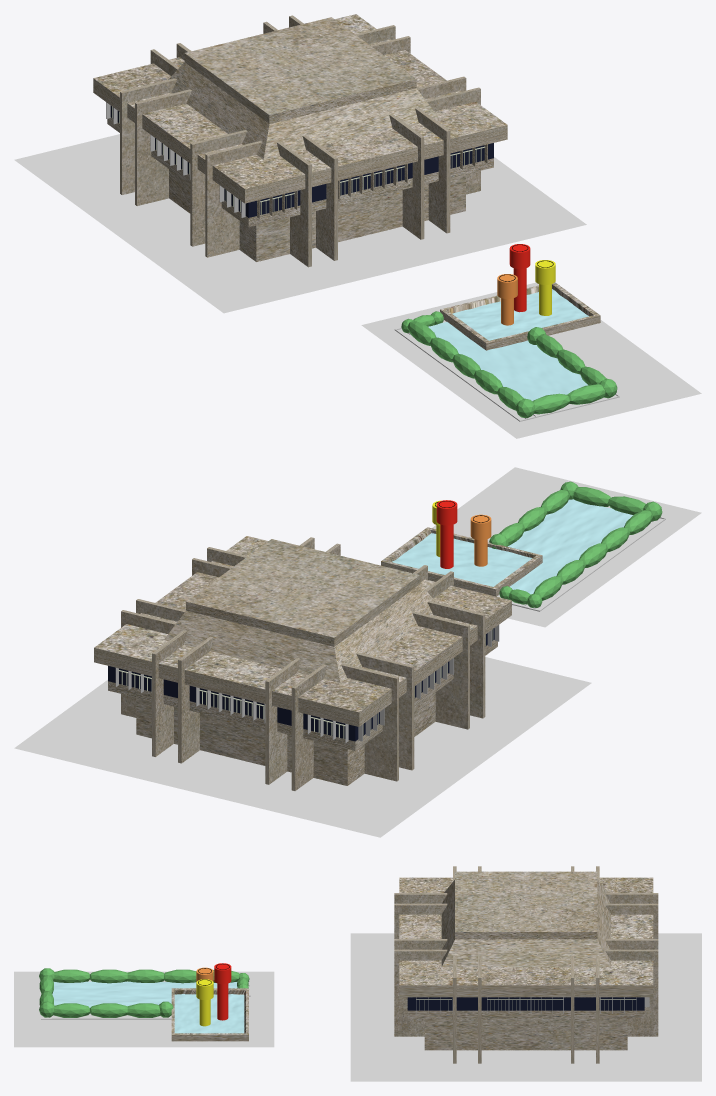
The model's file is auditorio prueba1.fbx.
3 views of the same model, one above another, from view 1: azimuth 30°, elevation 25°; view 2: azimuth 150°, elevation 25°; view 3: azimuth 270°, elevation 25° (orthographic). The views are drawn at different scales.
Visible parts, largest first — view 1: Plane, Cube.002, Cube.006, Cube.004, Piso (Plataforma), Cube.003, Cube.005, Cube, Cube.001, Plane.003, Plane.002, Piscina (+4 smaller); view 2: Plane, Cube.002, Cube.006, Cube.004, Cube.003, Cube.005, Piso (Plataforma), Cube, Cube.001, Plane.003, Plane.002, Piscina (+3 smaller); view 3: Plane, Cube.002, Cube.006, Piso (Plataforma), Cube.003, Cube, Cube.005, Cube.001, Plane.003, Plane.002, Cube.004, Piscina (+10 smaller).
Boxes of the visible parts, <box> form: Plane: <box>14,134,586,313</box>; Cube.002: <box>93,14,507,203</box>; Cube.006: <box>184,17,416,123</box>; Cube.004: <box>120,25,480,257</box>; Piso (Plataforma): <box>361,282,701,438</box>; Cube.003: <box>150,15,450,267</box>; Cube.005: <box>168,62,438,159</box>; Cube: <box>169,169,465,261</box>; Cube.001: <box>107,106,493,227</box>; Plane.003: <box>428,322,587,401</box>; Plane.002: <box>452,289,588,340</box>; Piscina: <box>440,282,600,350</box>; Plane: <box>14,657,591,837</box>; Cube.002: <box>94,536,511,726</box>; Cube.006: <box>186,539,419,646</box>; Cube.004: <box>121,547,485,781</box>; Cube.003: <box>152,537,453,790</box>; Cube.005: <box>164,584,436,682</box>; Piso (Plataforma): <box>432,467,701,627</box>; Cube: <box>136,692,435,785</box>; Cube.001: <box>108,628,497,750</box>; Plane.003: <box>507,499,633,594</box>; Plane.002: <box>392,533,532,586</box>; Piscina: <box>381,527,542,596</box>; Plane: <box>350,933,701,1081</box>; Cube.002: <box>399,877,653,997</box>; Cube.006: <box>455,871,597,939</box>; Piso (Plataforma): <box>14,971,274,1047</box>; Cube.003: <box>394,893,658,1036</box>; Cube: <box>424,1018,627,1050</box>; Cube.005: <box>441,879,610,967</box>; Cube.001: <box>407,997,644,1018</box>; Plane.003: <box>52,981,237,1007</box>; Plane.002: <box>174,994,244,1033</box>; Cube.004: <box>453,866,599,1063</box>; Piscina: <box>171,988,248,1041</box>.
Bounding box in the file's own units: 415 × 141 × 812.
